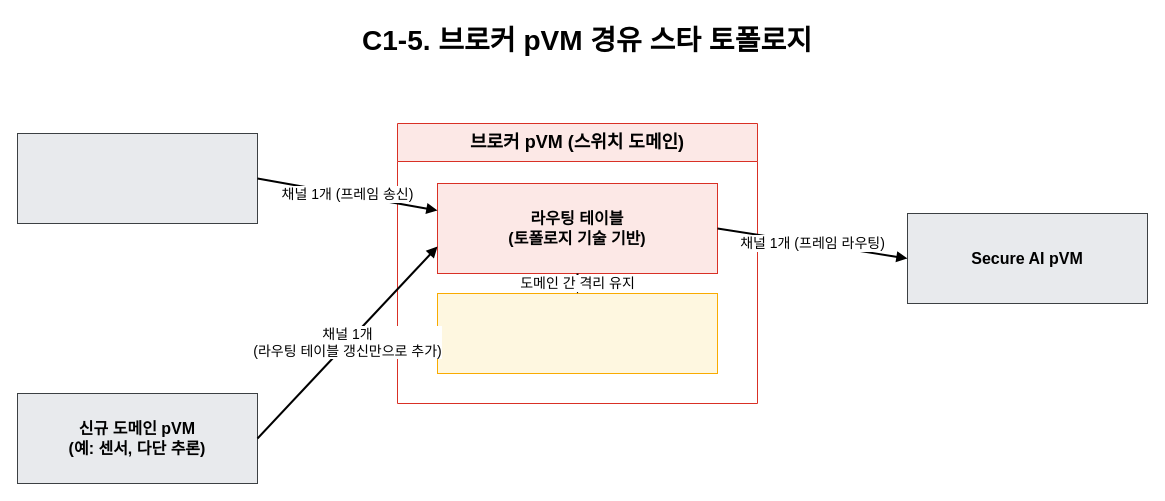
Some shapes in this 1165 by 501 pixel diagram are drawn without their labels. The centre of each missing label's shape, as x and y in pixels:
Secure Camera pVM: point (137, 178)
흐름 제어 송신자별 버퍼 분리: point (577, 333)
